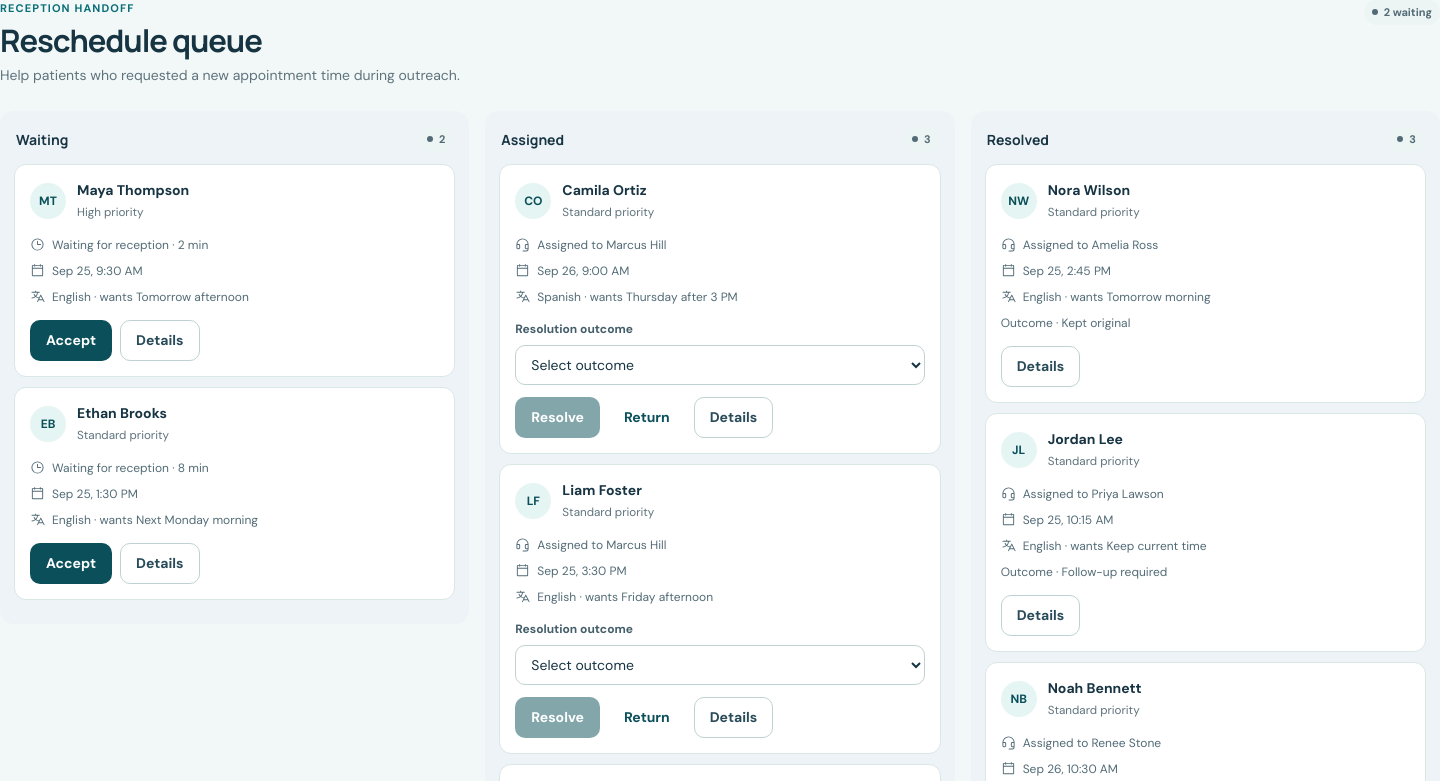
Test: ReschedulePage › requires and applies one of the supported resolution outcomes
The image size is (1440, 781).
Click the button with aria-label "Accept Maya Thompson". click: coordinates (71, 340)
box: [30, 320, 112, 361]
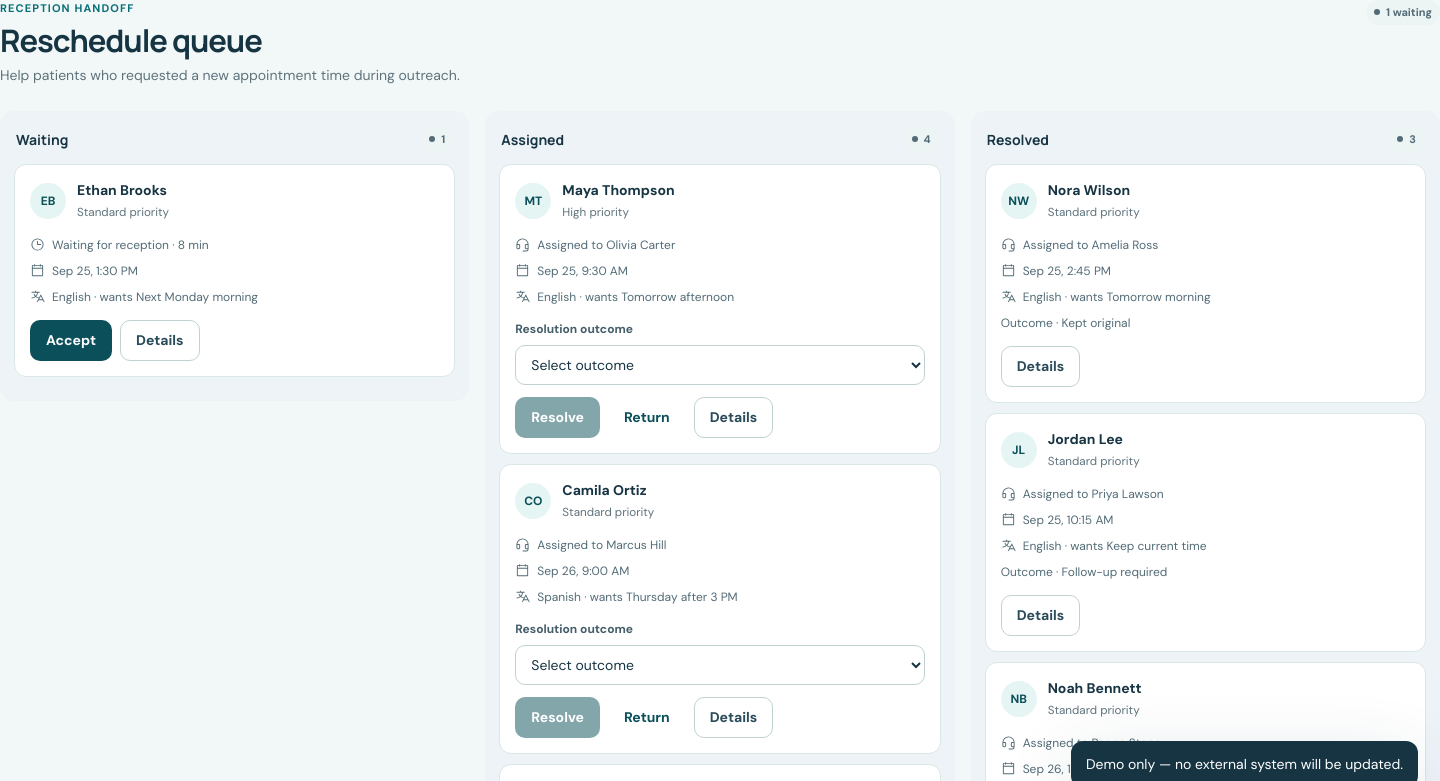
Expected: the button with aria-label "Resolve Maya Thompson" is disabled, [515, 397, 600, 438]
Select "Rescheduled" in the dropdown named "Resolution outcome for Maya Thompson". click: coordinates (720, 365)
box: [515, 345, 925, 385]
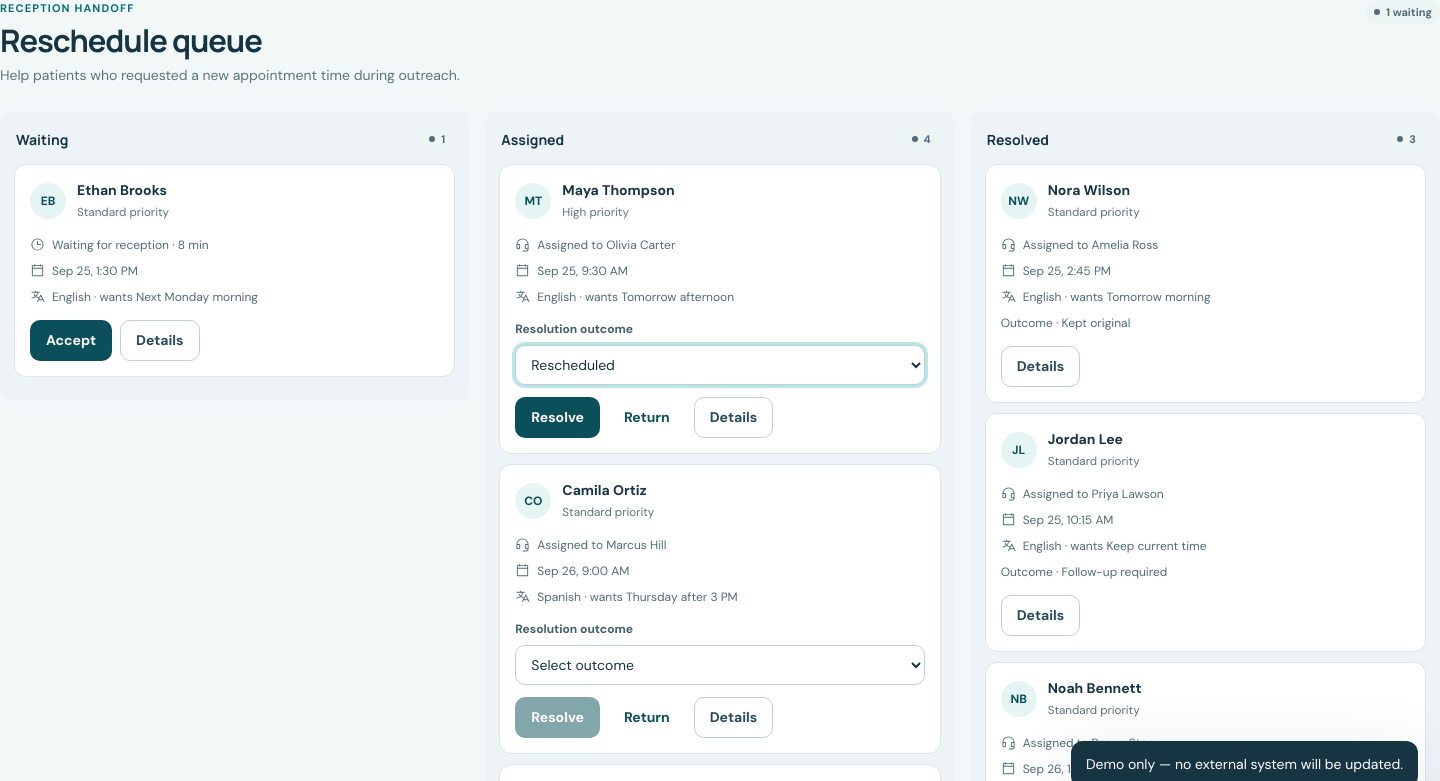
Click the button with aria-label "Resolve Maya Thompson". click: coordinates (558, 417)
box: [515, 397, 600, 438]
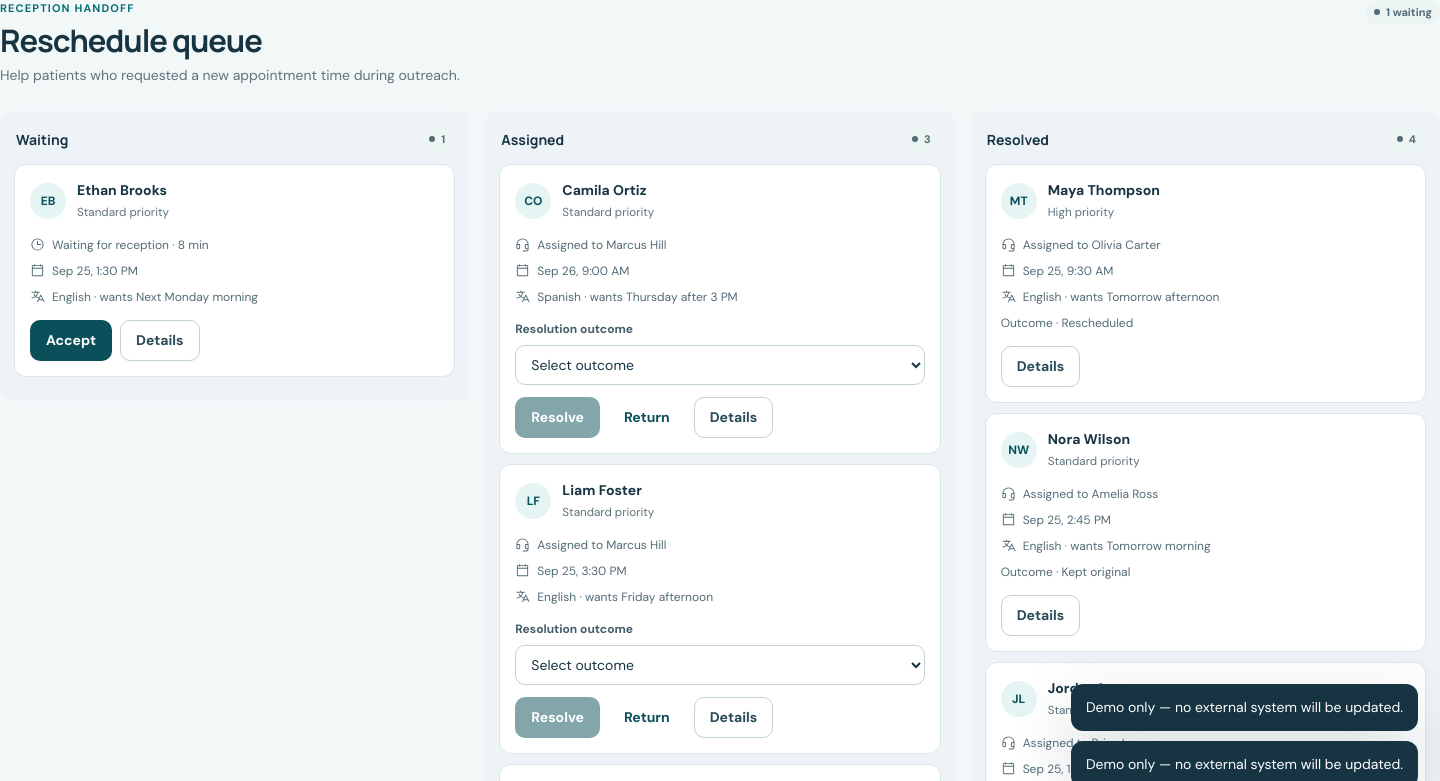
Expected: the text "Outcome · Rescheduled" is shown, [1001, 315, 1133, 331]
